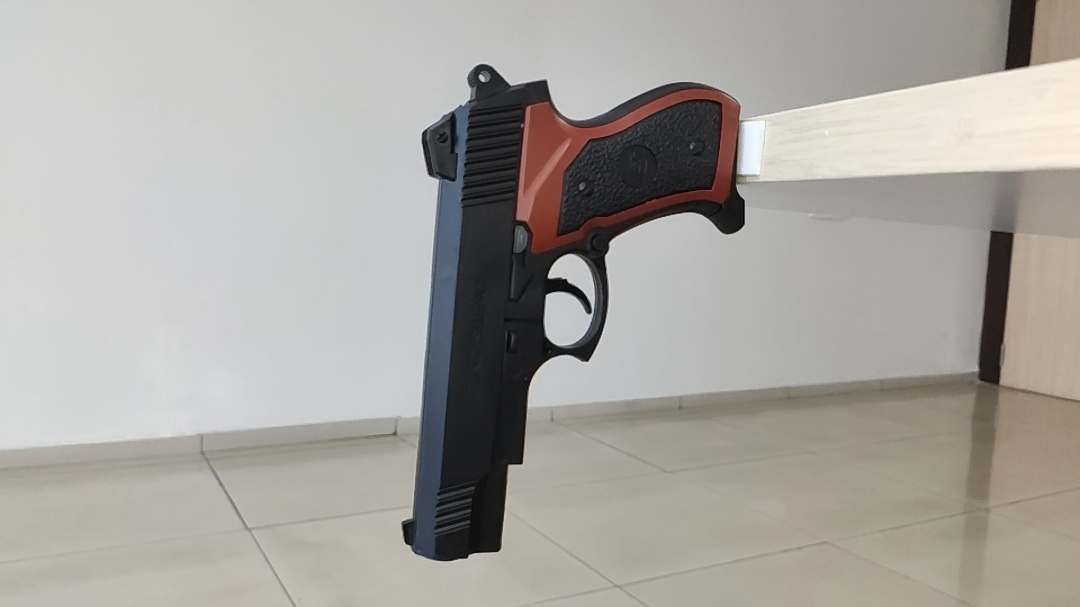gun: (328, 235, 452, 373)
